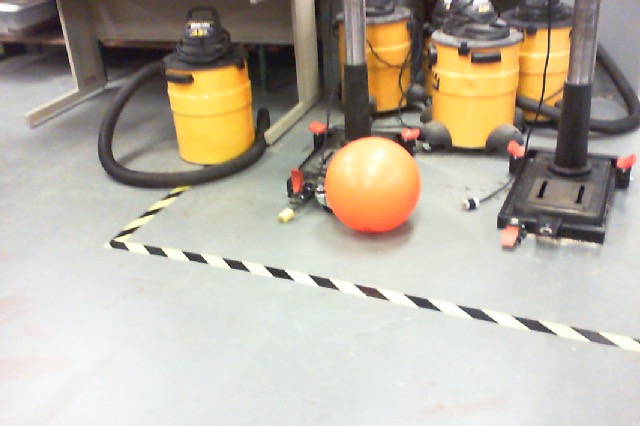Ball: (323, 136, 421, 232)
